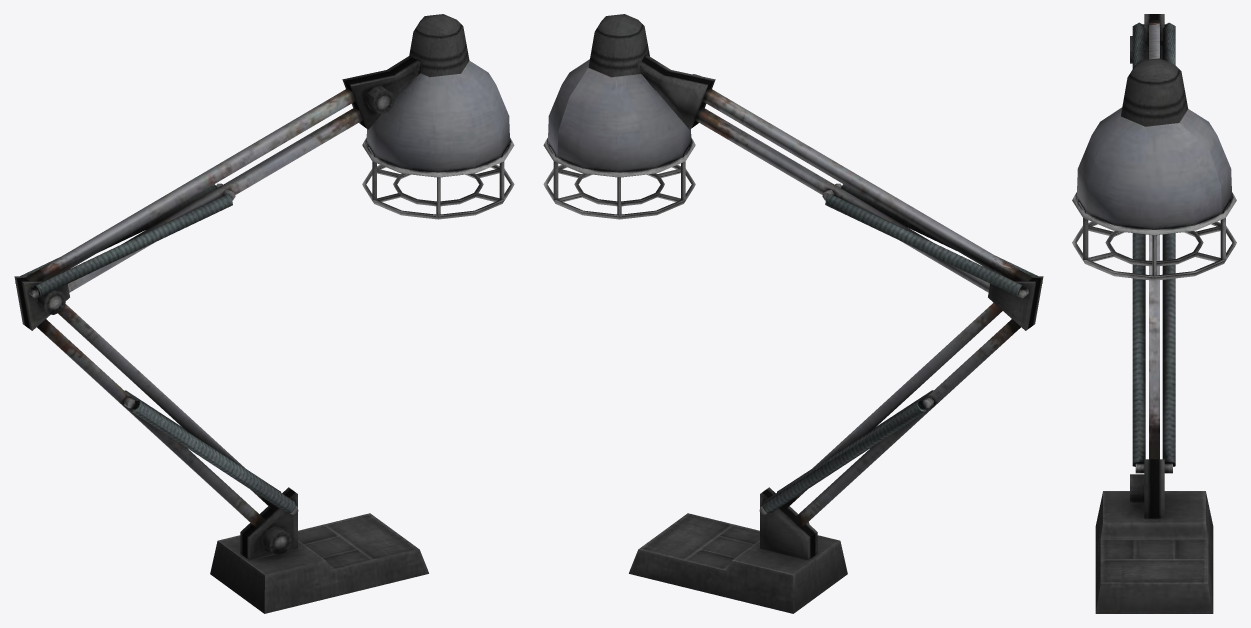
File: lamp.obj
3 renders of one model, left to right at view 1: azimuth 30°, elevation 25°; view 2: azimuth 150°, elevation 25°; view 3: azimuth 270°, elevation 25°, orthographic. The views are drawn at different scales.
Visible parts, largest first — view 1: OBJ_Table_Lamp; view 2: OBJ_Table_Lamp; view 3: OBJ_Table_Lamp.
Boxes of the visible parts, x1,y1,x2,y2 form: OBJ_Table_Lamp: (14, 14, 514, 613); OBJ_Table_Lamp: (543, 14, 1043, 613); OBJ_Table_Lamp: (1072, 14, 1236, 613).
Size of the model in its own units: 97.15 by 101 by 26.42.
Materials: 1 (1 with a texture image).
